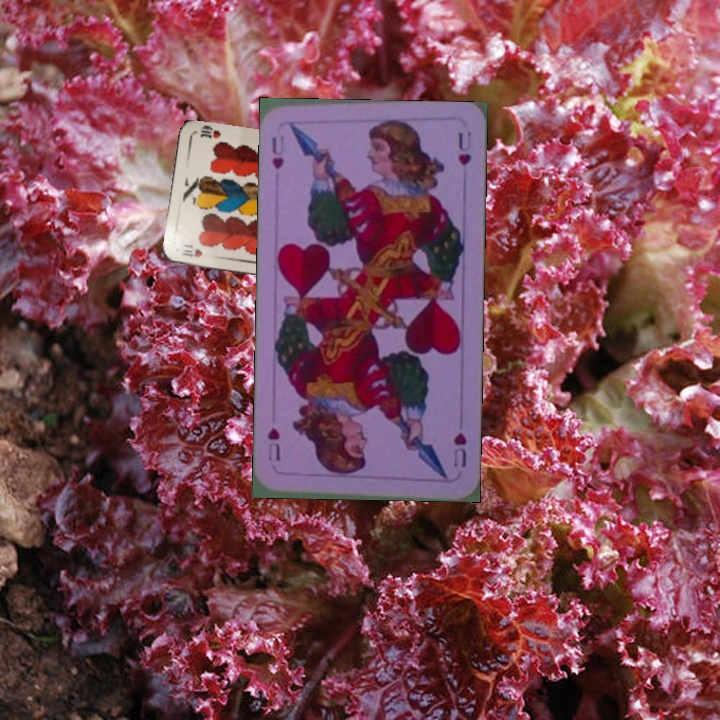H10: (178, 242, 205, 260)
HU: (267, 133, 290, 172), (449, 428, 469, 469)
